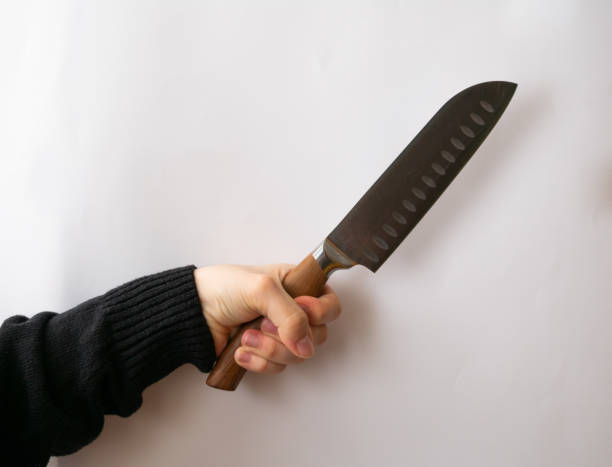knife: (202, 78, 519, 394)
